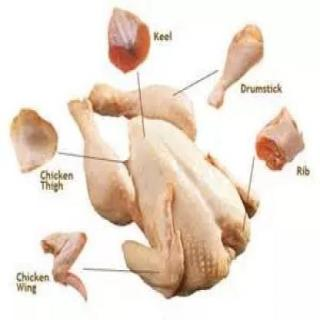Ayam: (70, 85, 259, 298), (210, 20, 265, 113), (9, 108, 61, 177), (43, 234, 89, 304), (257, 108, 306, 172), (109, 5, 152, 75)
